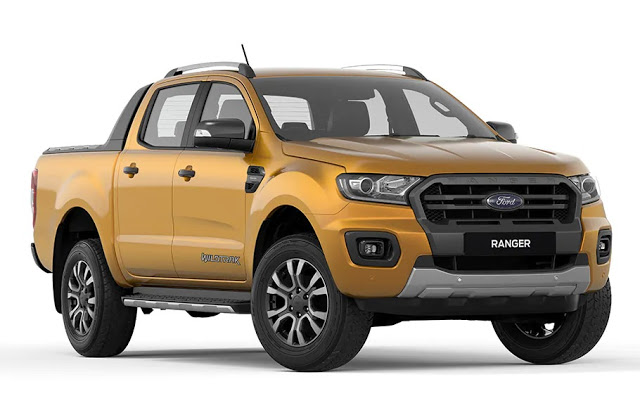pickup: (29, 58, 617, 369)
